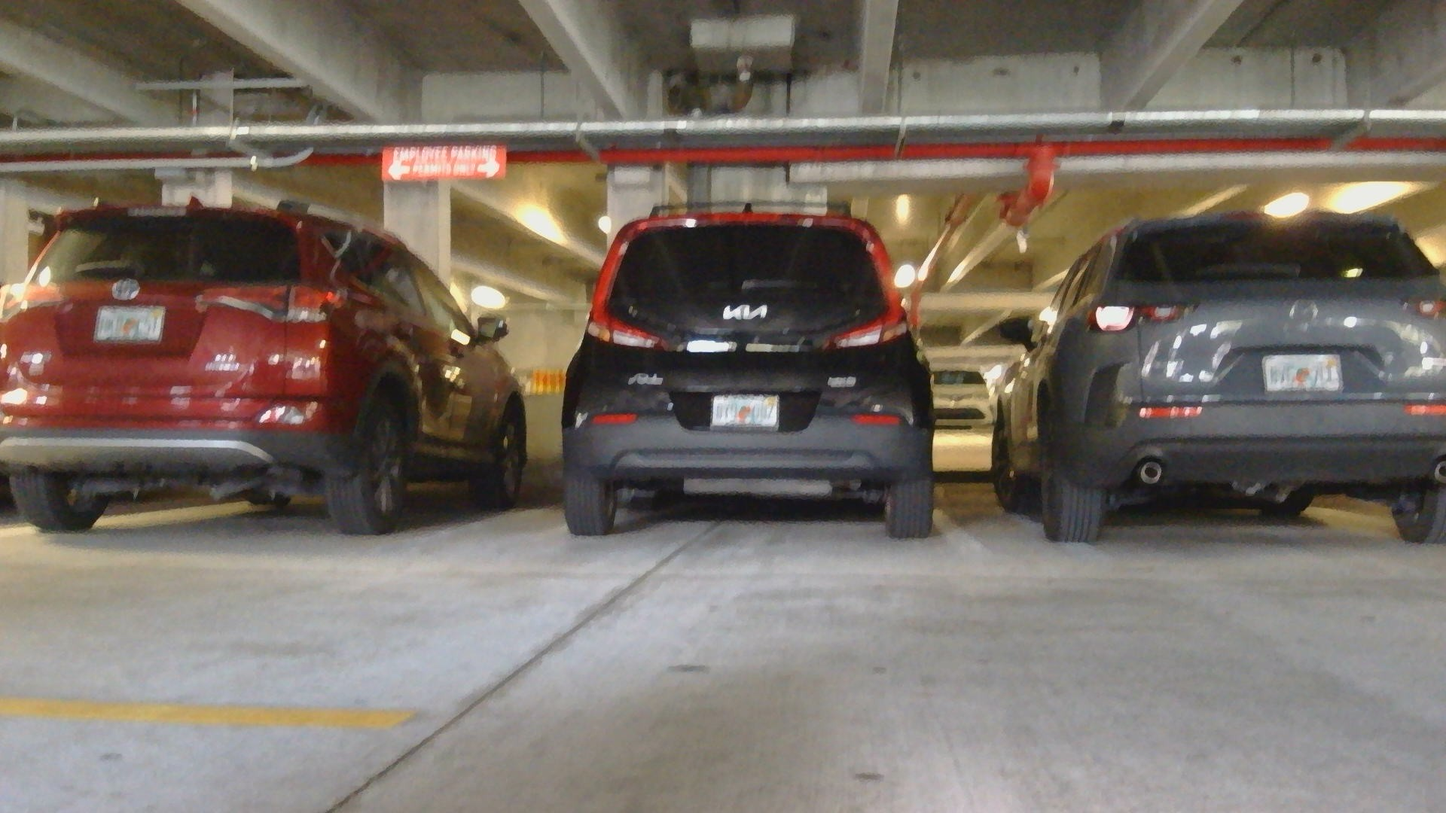occupied_spot: (959, 197, 1446, 577), (0, 187, 522, 541), (550, 196, 942, 550)
